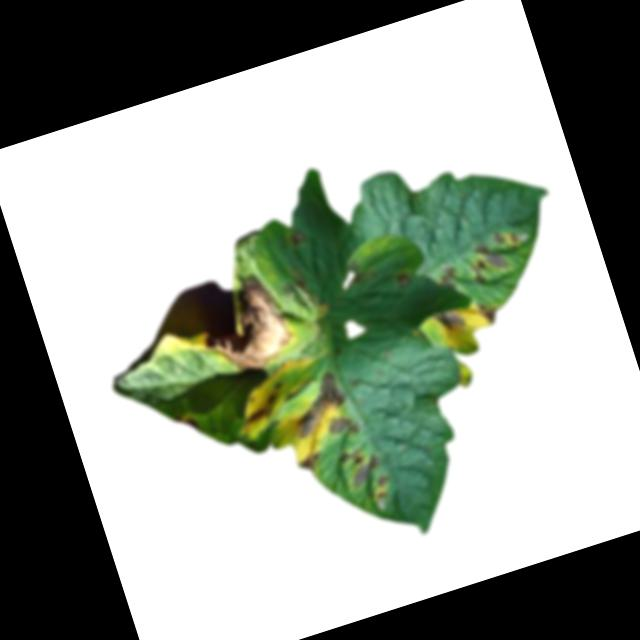Early_blight: (190, 271, 298, 384), (282, 366, 356, 441), (336, 439, 400, 517), (461, 223, 535, 288), (236, 379, 291, 428), (429, 305, 468, 338), (327, 411, 362, 441), (295, 448, 328, 477), (474, 296, 502, 328), (435, 266, 461, 293), (393, 268, 415, 294), (178, 415, 199, 441), (288, 229, 309, 250)
